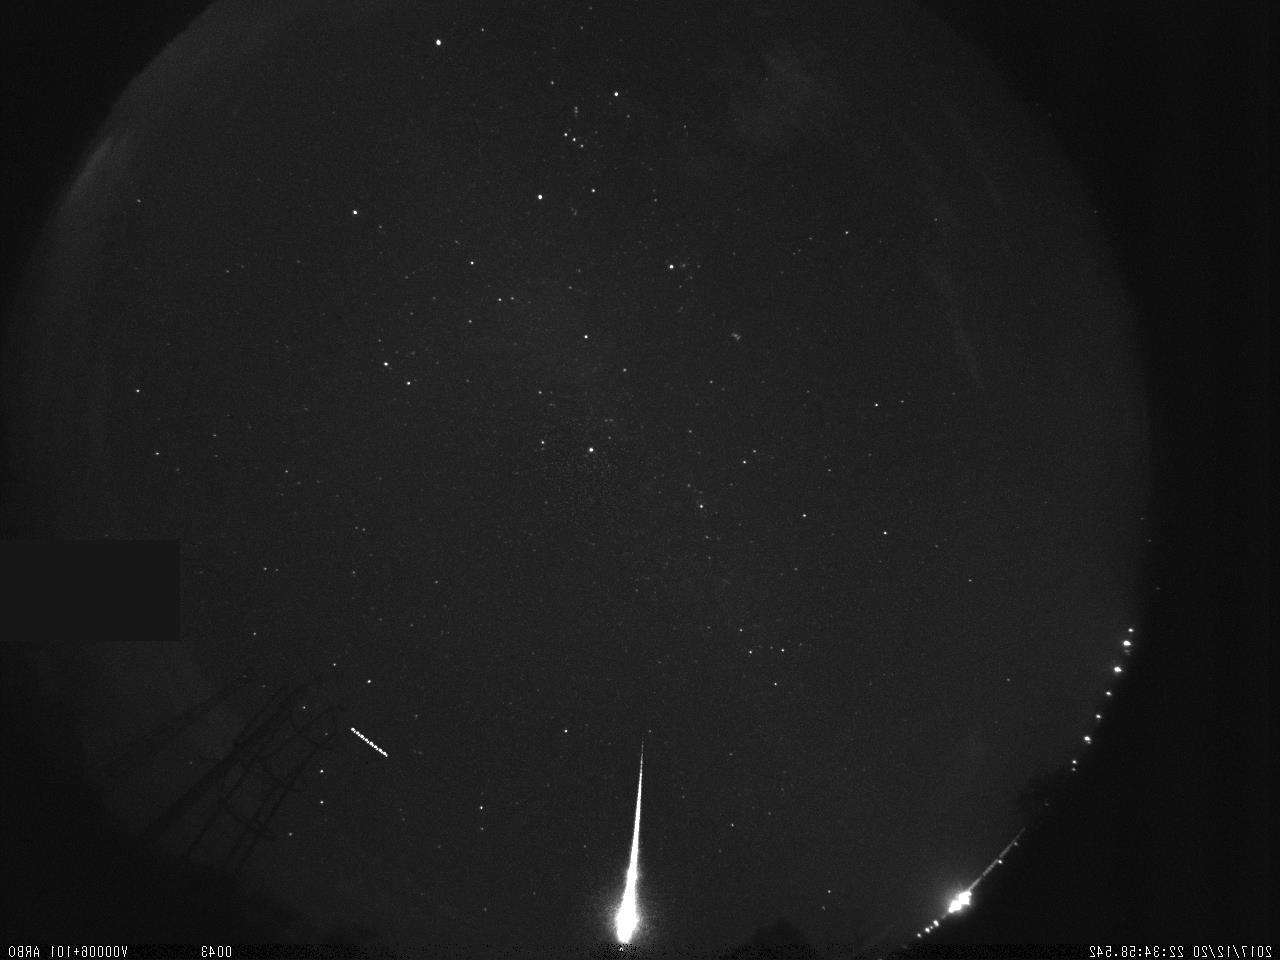meteor: (594, 726, 671, 949)
satelite: (348, 720, 393, 764)
